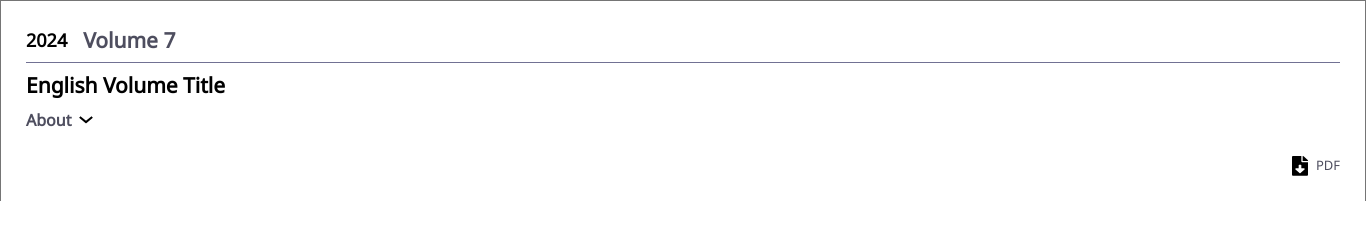
Test: VolumeListCard › description toggle has aria-expanded="true" after opening
Step 1. Click the button "About" → point(60, 120), box [26, 109, 93, 131]
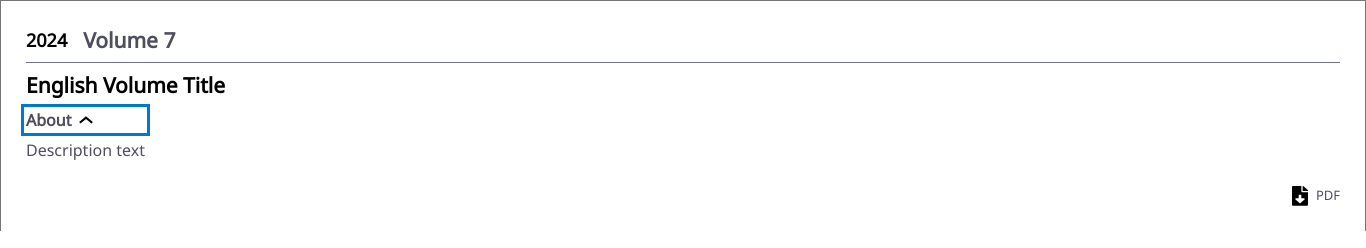
Result: the button "About" is expanded at [26, 109, 93, 131]
